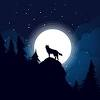Lobo: (42, 43, 63, 61)
